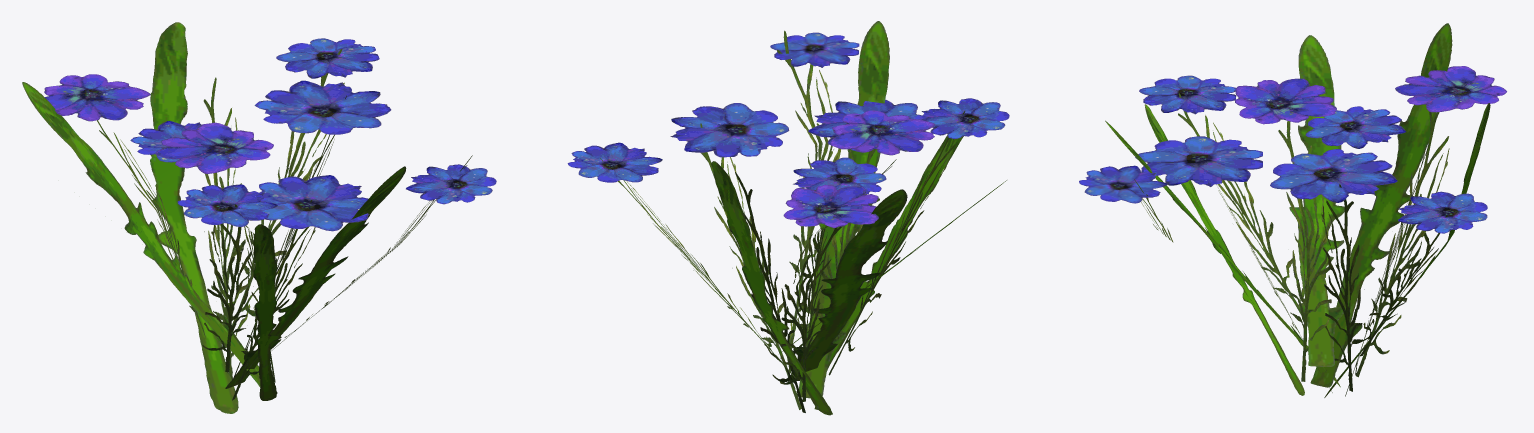
File: Plant_3002_zhiwu01_hua14.FBX
3 renders of one model, left to right at view 1: azimuth 30°, elevation 25°; view 2: azimuth 150°, elevation 25°; view 3: azimuth 270°, elevation 25°, orthographic. The views are drawn at different scales.
Visible parts, largest first — view 1: Plant_3002_zhiwu01_hua14; view 2: Plant_3002_zhiwu01_hua14; view 3: Plant_3002_zhiwu01_hua14.
Boxes of the visible parts, x1,y1,x2,y2 form: Plant_3002_zhiwu01_hua14: [22, 22, 496, 413]; Plant_3002_zhiwu01_hua14: [567, 21, 1009, 415]; Plant_3002_zhiwu01_hua14: [1079, 23, 1506, 397].
Size of the model in its own units: 71.41 by 57.14 by 73.15.
